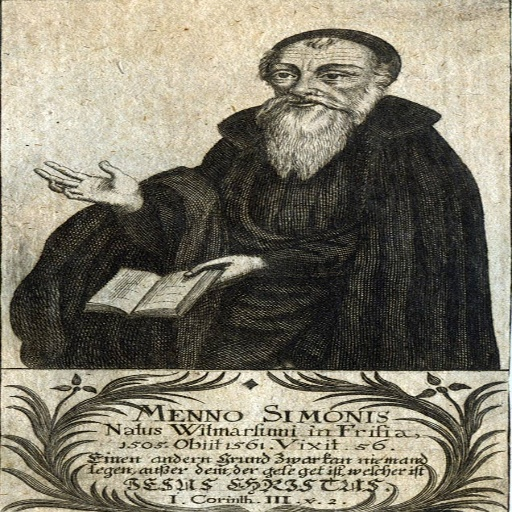hand: (28, 147, 156, 211), (181, 254, 264, 294)
